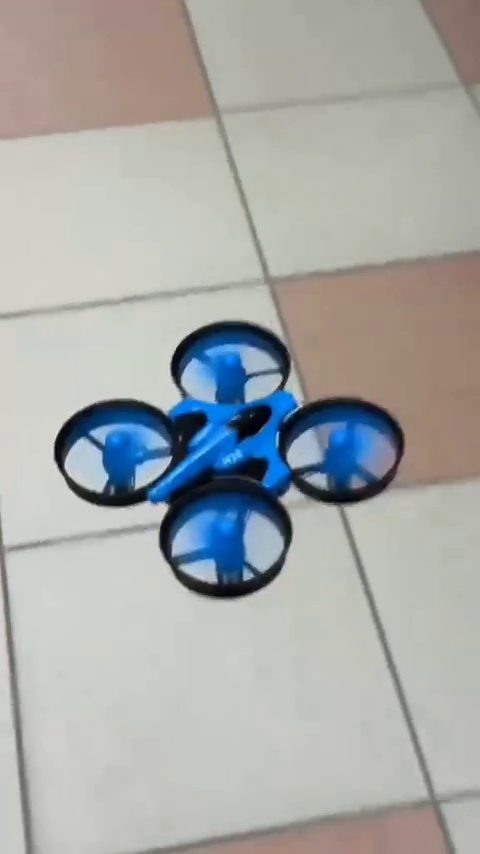drone: (51, 321, 402, 602)
